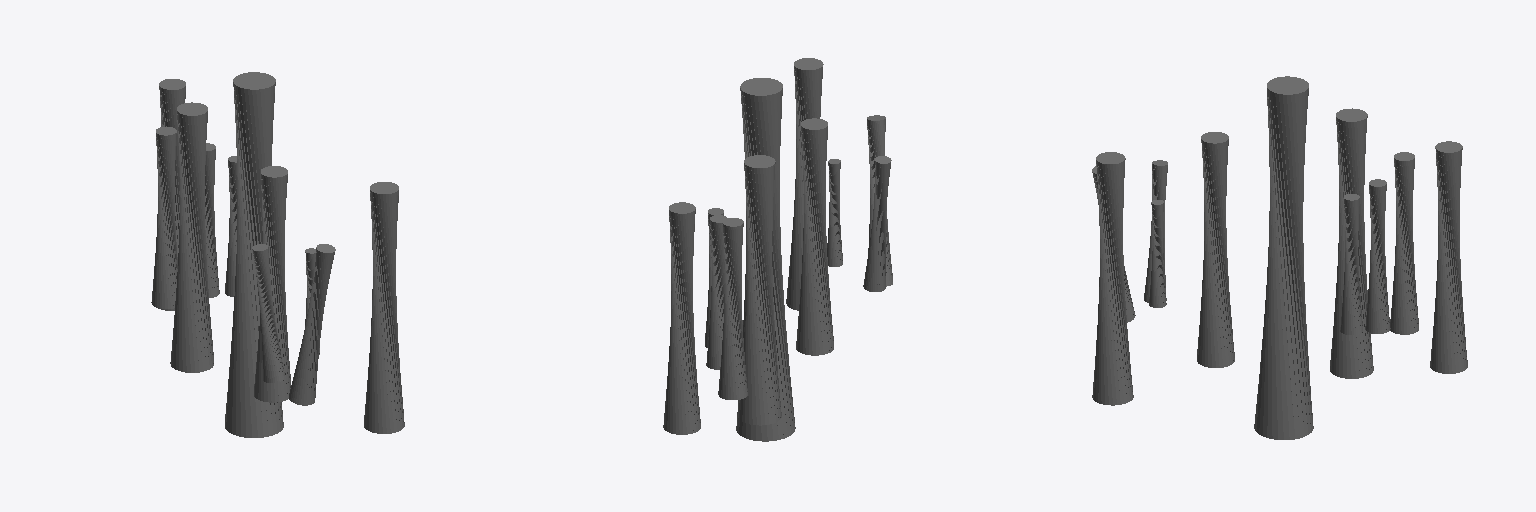
The model's file is pillars.obj.
3 views of the same model, side by side, from view 1: azimuth 30°, elevation 25°; view 2: azimuth 150°, elevation 25°; view 3: azimuth 270°, elevation 25° (orthographic).
Parts seen in each view (by area): view 1: Cylinder.006, Cylinder.007, Cylinder.001, Cylinder.004, Cylinder.010, Cylinder, Cylinder.002, Cylinder.009, Cylinder.011, Cylinder.008; view 2: Cylinder.007, Cylinder.006, Cylinder.004, Cylinder.011, Cylinder.010, Cylinder.001, Cylinder.002, Cylinder.009, Cylinder, Cylinder.003; view 3: Cylinder.006, Cylinder.001, Cylinder.004, Cylinder.011, Cylinder.007, Cylinder.010, Cylinder.009, Cylinder.008, Cylinder.003, Cylinder.002.
Boxes of the visible parts, <box> form: Cylinder.006: <box>225,72,283,437</box>; Cylinder.007: <box>170,102,213,372</box>; Cylinder.001: <box>364,182,404,433</box>; Cylinder.004: <box>254,166,290,402</box>; Cylinder.010: <box>151,127,177,308</box>; Cylinder: <box>289,244,335,405</box>; Cylinder.002: <box>252,244,284,382</box>; Cylinder.009: <box>205,143,219,297</box>; Cylinder.011: <box>158,79,185,310</box>; Cylinder.008: <box>225,156,236,296</box>; Cylinder.007: <box>738,155,781,425</box>; Cylinder.006: <box>736,78,795,441</box>; Cylinder.004: <box>796,118,833,355</box>; Cylinder.011: <box>663,202,700,434</box>; Cylinder.010: <box>718,218,747,399</box>; Cylinder.001: <box>786,58,823,310</box>; Cylinder.002: <box>863,156,891,291</box>; Cylinder.009: <box>706,215,726,369</box>; Cylinder: <box>867,115,892,286</box>; Cylinder.003: <box>827,159,842,266</box>; Cylinder.006: <box>1254,76,1313,439</box>; Cylinder.001: <box>1092,152,1133,405</box>; Cylinder.004: <box>1197,132,1234,367</box>; Cylinder.011: <box>1430,141,1467,373</box>; Cylinder.007: <box>1330,108,1373,378</box>; Cylinder.010: <box>1390,152,1418,334</box>; Cylinder.009: <box>1365,179,1390,333</box>; Cylinder.008: <box>1340,194,1362,334</box>; Cylinder.003: <box>1149,200,1166,307</box>; Cylinder.002: <box>1144,160,1167,302</box>.
Bounding box in the file's own units: 10.67 × 27.96 × 27.73.